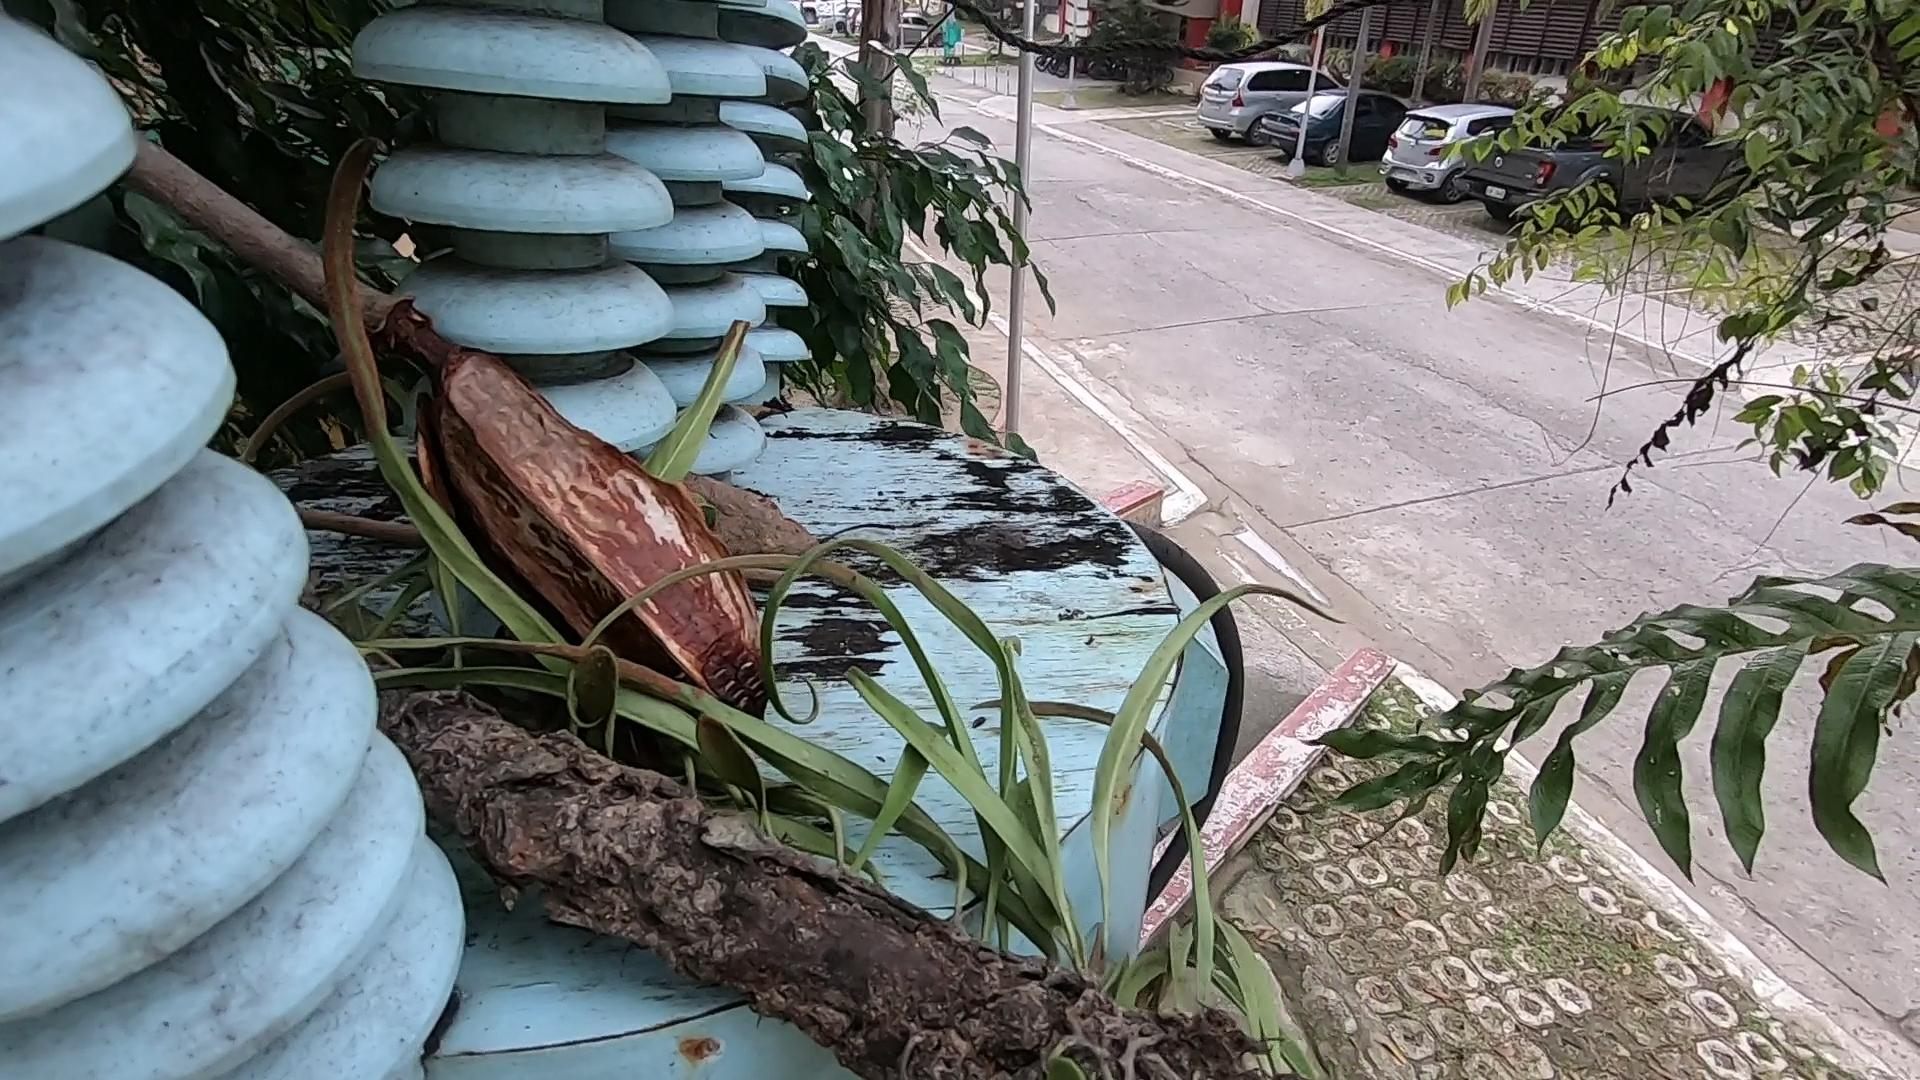branch with leaves: (397, 703, 1079, 1080)
mahogany fruit: (291, 276, 1192, 786)
tree branch: (145, 123, 404, 589)
